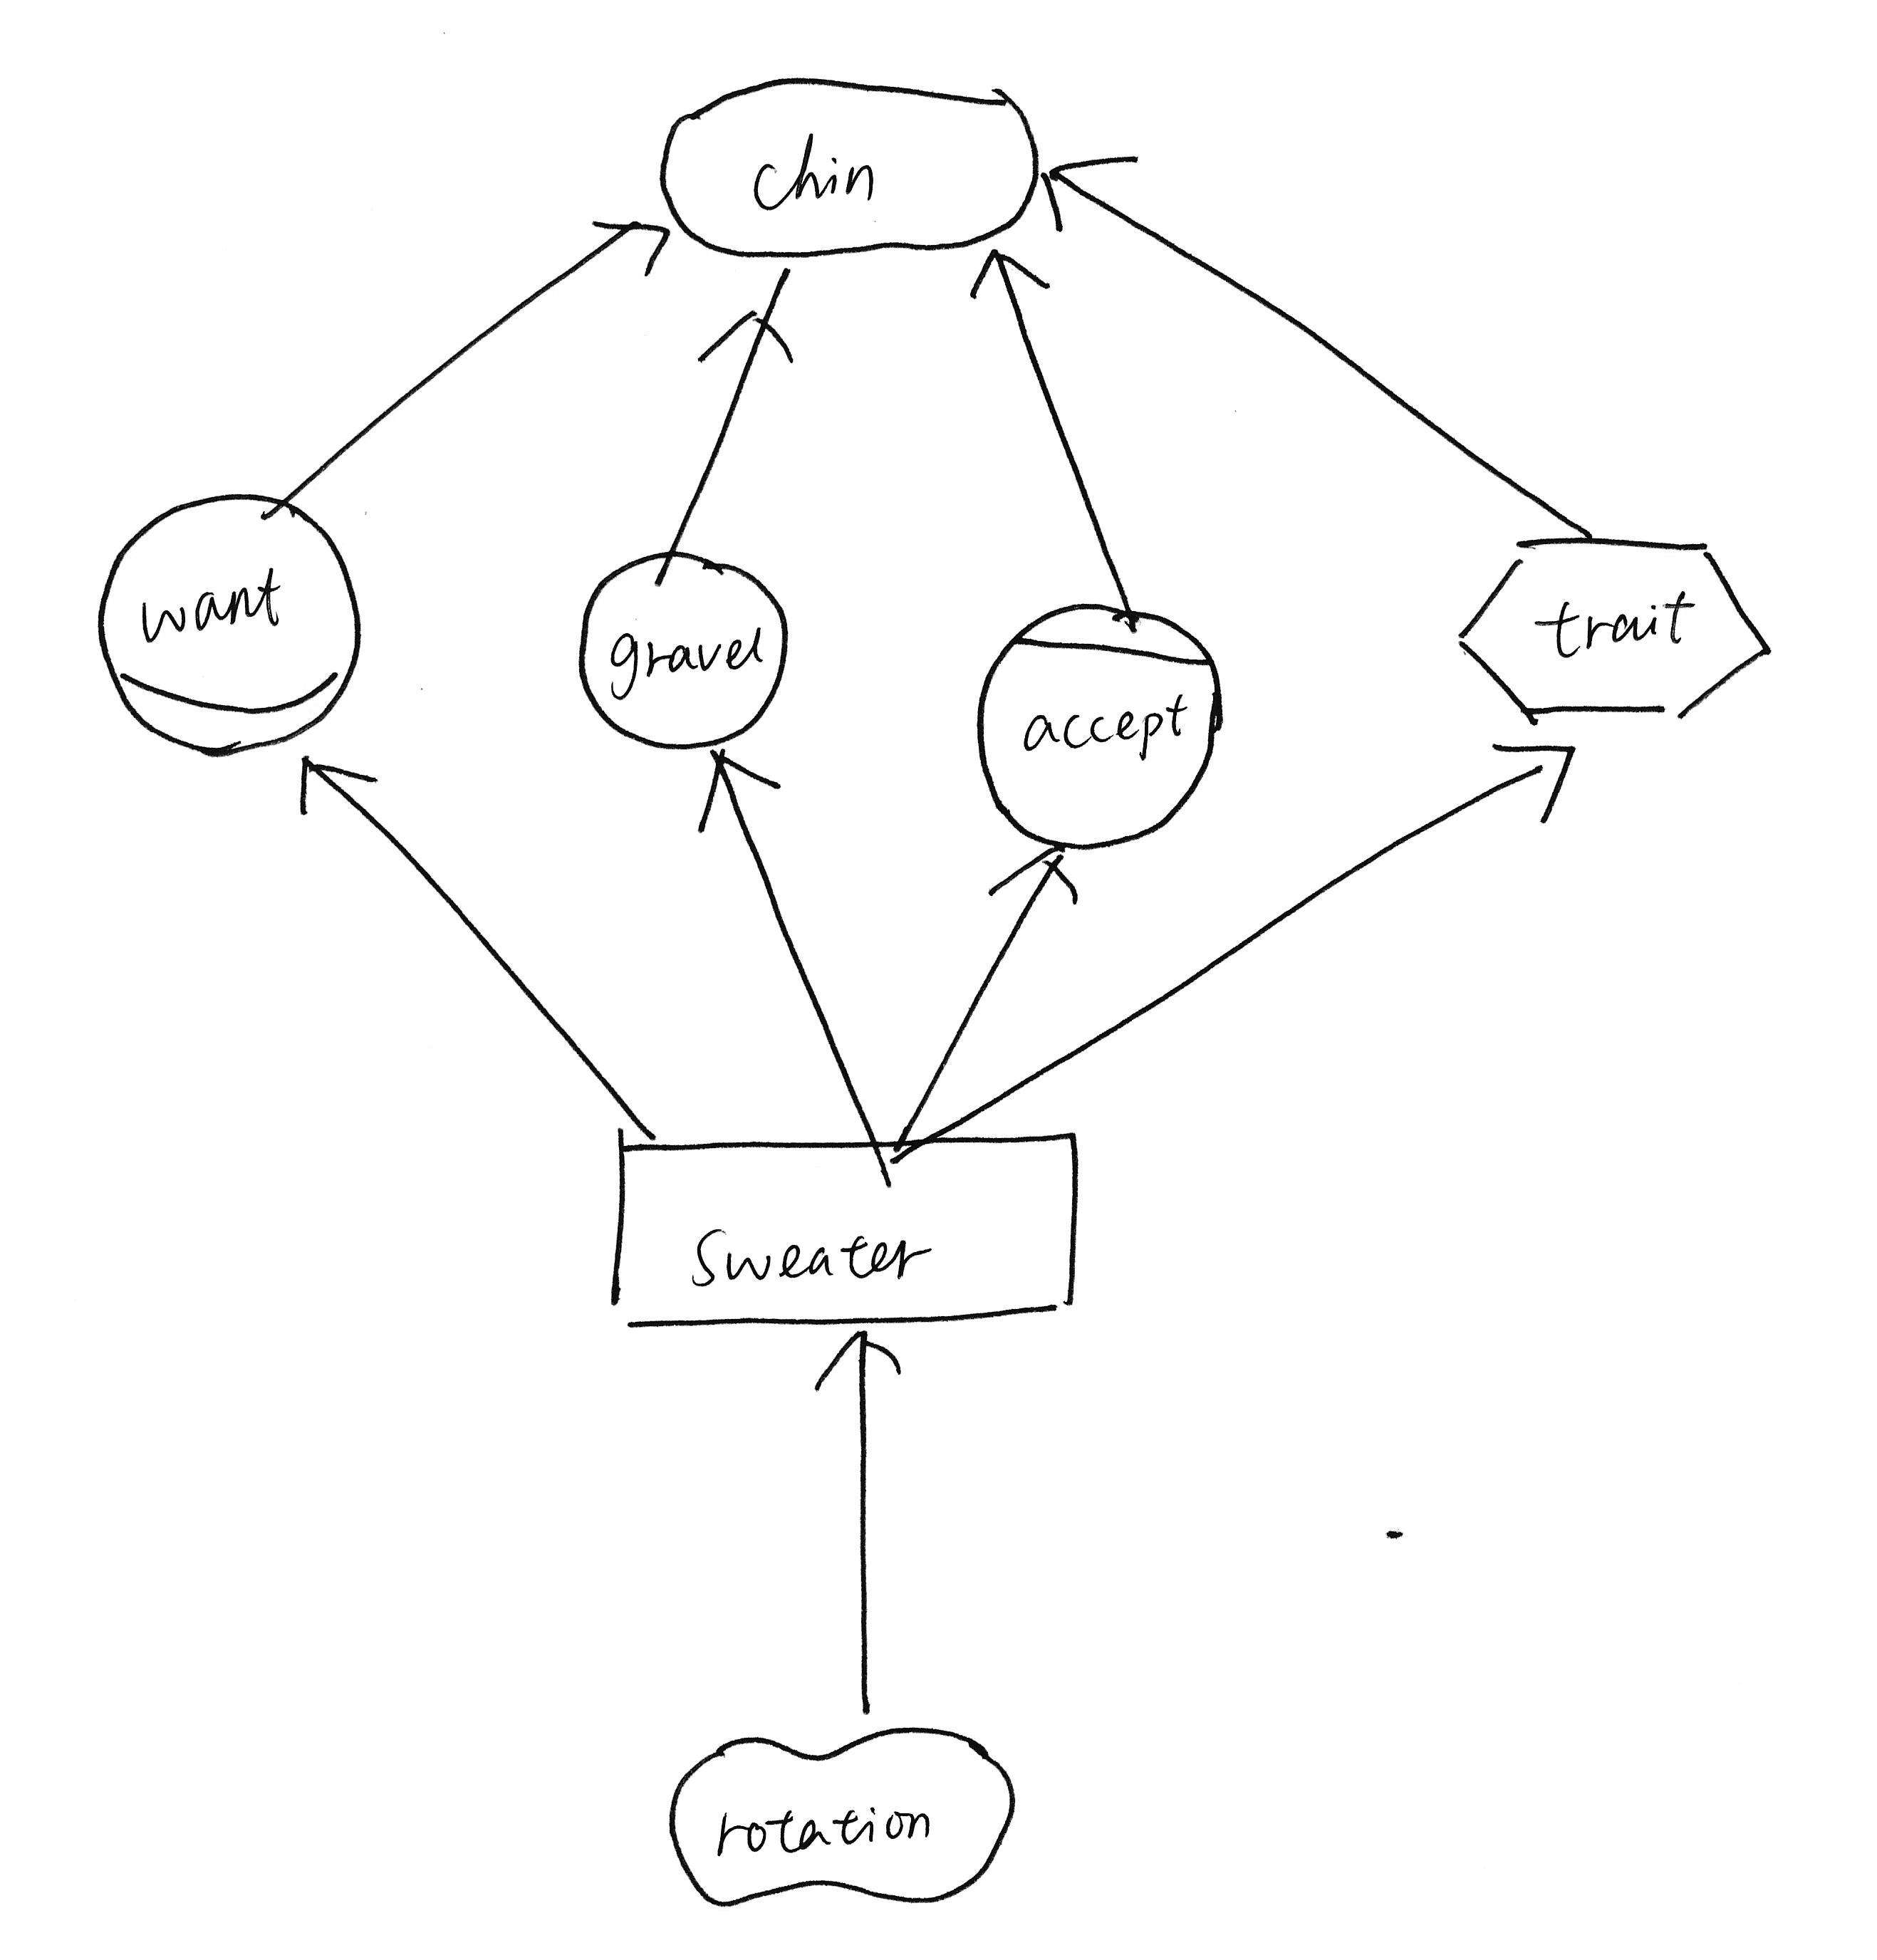actor: (546, 536, 804, 768)
agent: (958, 581, 1243, 866)
arrow: (1024, 138, 1166, 250), (1481, 728, 1592, 845), (685, 740, 800, 851), (972, 833, 1096, 929), (693, 297, 807, 403), (580, 177, 683, 292), (271, 746, 390, 831), (960, 236, 1063, 333)
goal: (641, 51, 1059, 273)
quality: (655, 1713, 1035, 1922)
resource: (578, 1109, 1107, 1342)
role: (81, 473, 375, 768)
task: (1439, 511, 1791, 739)
